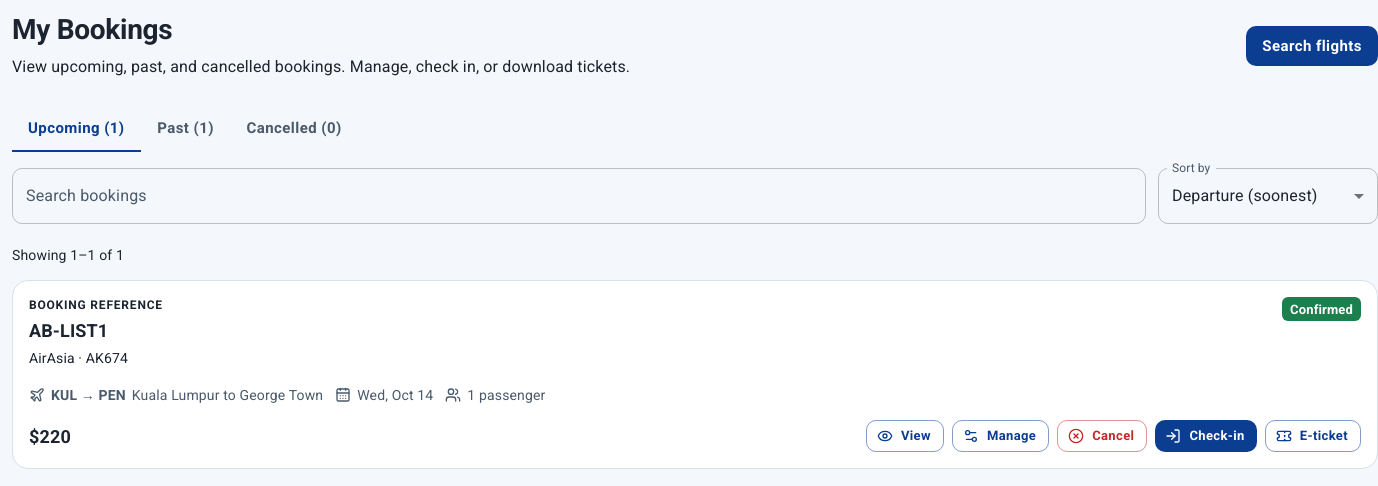
Scenario: MyBookingsPage › lists upcoming bookings with card details and actions
Expected: the tab "Upcoming (1)" is shown, [12, 104, 140, 152]
Expected: the heading "AB-LIST1" is shown, [29, 320, 108, 341]
Click the tab "Past (1)" at {"x": 186, "y": 128}, box [140, 104, 230, 152]
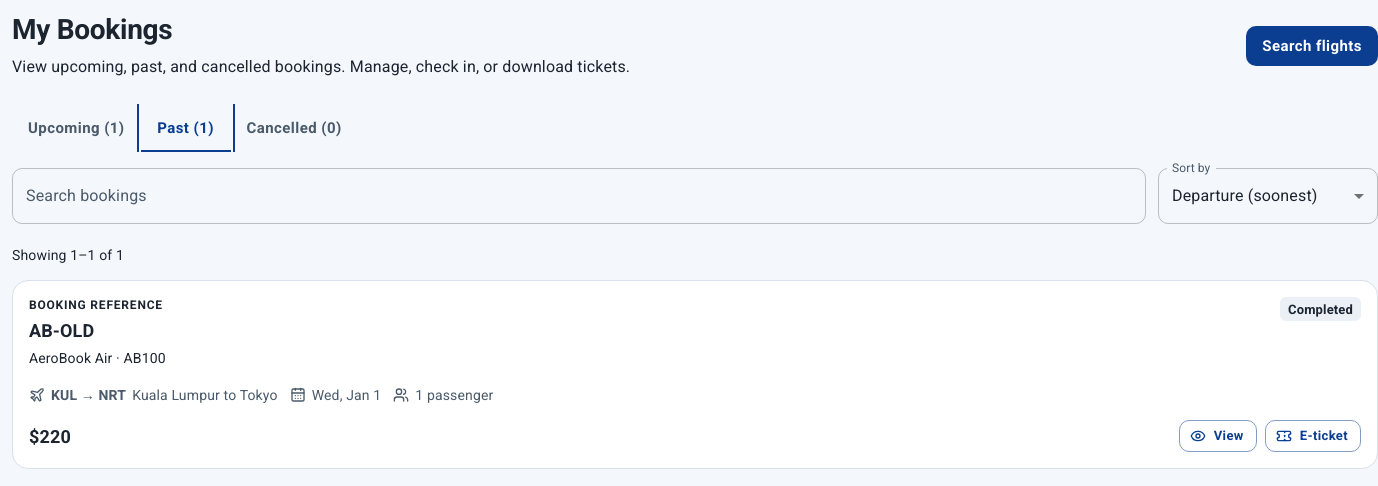
Now the heading "AB-OLD" is shown, box [29, 320, 94, 341]
Now the heading "AB-LIST1" is gone
